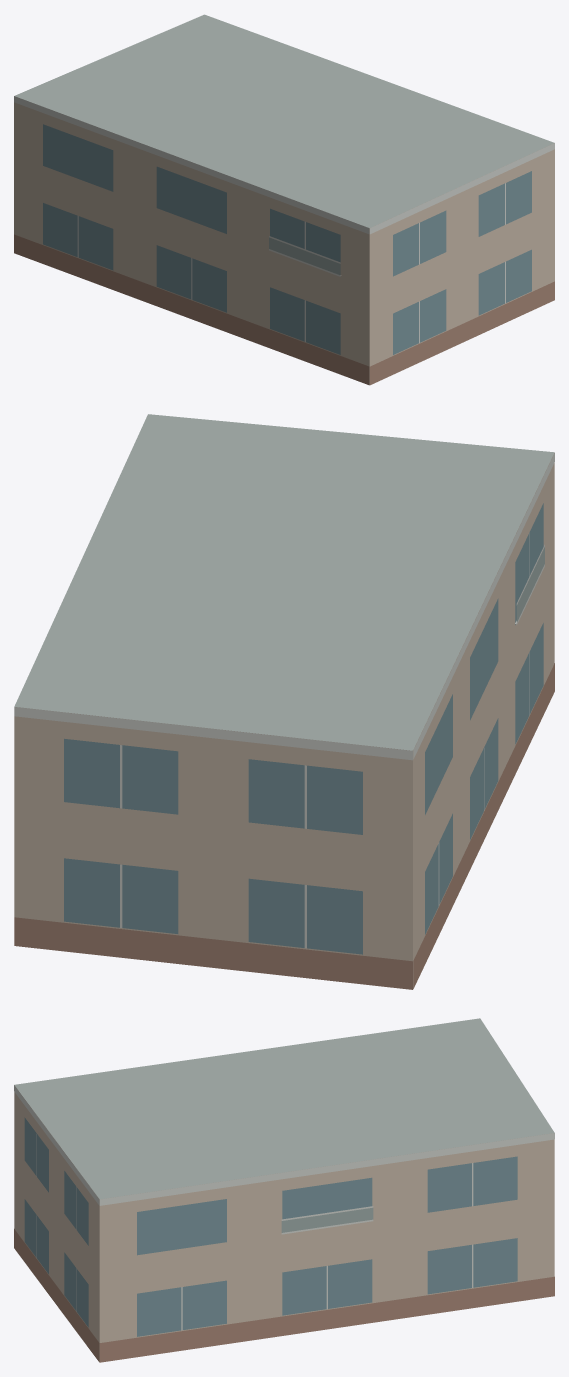
The model's file is survey-upis-32636388.glb.
3 views of the same model, one above another, from view 1: azimuth 30°, elevation 25°; view 2: azimuth 150°, elevation 25°; view 3: azimuth 270°, elevation 25° (orthographic). The views are drawn at different scales.
Visible parts, largest first — view 1: survey-upis-32636388.tmp; view 2: survey-upis-32636388.tmp; view 3: survey-upis-32636388.tmp.
Part boxes in pixels (box(x1,y1,x2,y2)): survey-upis-32636388.tmp: box(14, 14, 554, 385); survey-upis-32636388.tmp: box(14, 414, 554, 989); survey-upis-32636388.tmp: box(14, 1018, 554, 1362).
Bounding box in the file's own units: 14.53 × 6.1 × 18.32.
